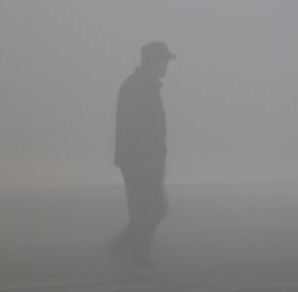person: (112, 39, 178, 268)
